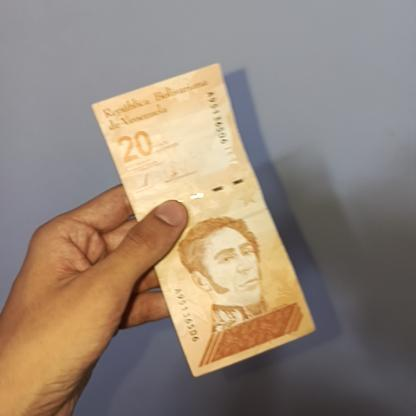twenty-front-vef: (90, 63, 314, 378)
